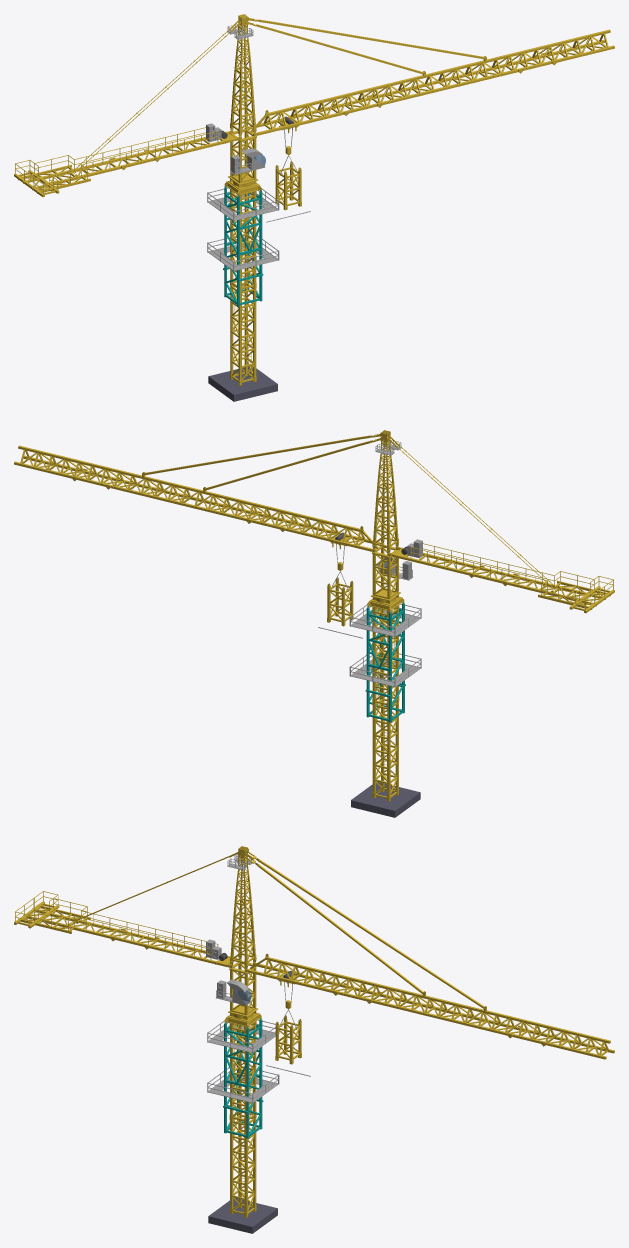
File: uploads_files_3772517_Crane.fbx
3 views of the same model, one above another, from view 1: azimuth 30°, elevation 25°; view 2: azimuth 150°, elevation 25°; view 3: azimuth 330°, elevation 25° (orthographic).
Parts seen in each view (by area): view 1: Brige1, Brige, group19_pCube16 (×2), group46_group19_pCube44, pPlane3, group19_pCube38, group19_pCube50, group24, group19_pCube62, group25, Brige6, group19_pCube51; view 2: Brige1, Brige, group19_pCube16 (×2), group46_group19_pCube44, group19_pCube38, pPlane3, group19_pCube50, group19_pCube62, group24, group25, Brige6, group19_pCube51; view 3: Brige1, group19_pCube16 (×2), Brige, group46_group19_pCube44, pPlane3, group19_pCube38, group19_pCube50, group19_pCube62, group24, Brige6, group25, Brige3 (+1 smaller).
Part boxes in pixels (x1,y1,x2,y2): Brige1: (248,29,614,135); Brige: (14,127,238,197); group19_pCube16 (×2): (230,192,256,385); group46_group19_pCube44: (223,186,263,306); pPlane3: (208,365,277,401); group19_pCube38: (224,127,261,198); group19_pCube50: (230,80,256,134); group24: (207,231,279,271); group19_pCube62: (275,161,301,210); group25: (207,188,279,221); Brige6: (256,19,484,59); group19_pCube51: (233,47,252,85); Brige1: (14,445,380,551); Brige: (390,543,614,613); group19_pCube16 (×2): (372,608,399,801); group46_group19_pCube44: (365,602,405,722); group19_pCube38: (367,543,404,614); pPlane3: (351,781,420,817); group19_pCube50: (372,496,398,550); group19_pCube62: (327,577,353,626); group24: (349,647,421,687); group25: (349,604,421,637); Brige6: (144,435,372,475); group19_pCube51: (376,463,395,500); Brige1: (247,957,614,1059); group19_pCube16 (×2): (229,1024,256,1217); Brige: (14,891,238,967); group46_group19_pCube44: (223,1018,263,1138); pPlane3: (208,1197,277,1233); group19_pCube38: (224,959,261,1030); group19_pCube50: (230,912,256,966); group19_pCube62: (275,1015,301,1064); group24: (207,1063,279,1103); Brige6: (256,858,484,1008); group25: (207,1020,279,1053); Brige3: (255,863,423,994).
Bounding box in the file's own units: 134 × 81.38 × 11.41.
